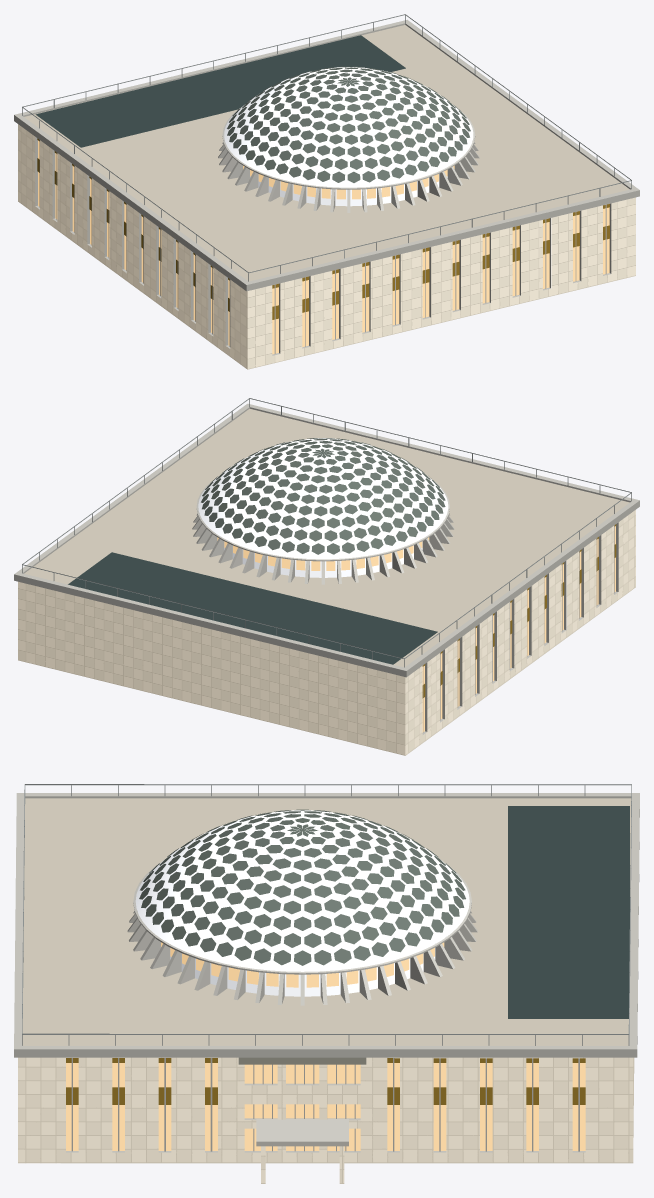
File: state_bank.glb
The picture shows the model from 3 angles, top to bottom: view 1: azimuth 30°, elevation 25°; view 2: azimuth 150°, elevation 25°; view 3: azimuth 270°, elevation 25°; orthographic projection. The views are drawn at different scales.
Visible parts, largest first — view 1: m_roof_deck, m_stone_panel, m_fascia, m_dome_white, m_dome_hex, m_roof_dark, m_window_glass, m_collar_rib, m_roof_rail, m_ochre_panel; view 2: m_stone_panel, m_roof_deck, m_roof_dark, m_dome_white, m_fascia, m_dome_hex, m_collar_rib, m_window_glass, m_roof_rail, m_ochre_panel; view 3: m_roof_deck, m_stone_panel, m_roof_dark, m_dome_white, m_dome_hex, m_fascia, m_window_glass, m_collar_rib, m_roof_rail, m_porch_slab, m_ochre_panel, m_frieze.
Boxes of the visible parts, bbox=[...] form: m_roof_deck: bbox=[24, 25, 629, 281]; m_stone_panel: bbox=[18, 124, 635, 369]; m_fascia: bbox=[14, 19, 639, 355]; m_dome_white: bbox=[224, 67, 473, 206]; m_dome_hex: bbox=[227, 66, 470, 182]; m_roof_dark: bbox=[35, 35, 405, 147]; m_window_glass: bbox=[38, 140, 609, 354]; m_collar_rib: bbox=[218, 107, 479, 212]; m_roof_rail: bbox=[22, 14, 631, 281]; m_ochre_panel: bbox=[37, 138, 609, 319]; m_stone_panel: bbox=[18, 510, 635, 755]; m_roof_deck: bbox=[24, 408, 629, 667]; m_roof_dark: bbox=[68, 552, 437, 664]; m_dome_white: bbox=[198, 438, 448, 577]; m_fascia: bbox=[14, 403, 639, 734]; m_dome_hex: bbox=[201, 438, 445, 554]; m_collar_rib: bbox=[192, 478, 454, 584]; m_window_glass: bbox=[217, 526, 615, 732]; m_roof_rail: bbox=[22, 398, 631, 667]; m_ochre_panel: bbox=[422, 524, 616, 698]; m_roof_deck: bbox=[22, 798, 631, 1045]; m_stone_panel: bbox=[18, 1057, 634, 1183]; m_roof_dark: bbox=[508, 806, 629, 1018]; m_dome_white: bbox=[135, 810, 469, 996]; m_dome_hex: bbox=[139, 809, 465, 965]; m_fascia: bbox=[14, 793, 639, 1152]; m_window_glass: bbox=[66, 942, 585, 1150]; m_collar_rib: bbox=[127, 866, 477, 1005]; m_roof_rail: bbox=[22, 784, 631, 1045]; m_porch_slab: bbox=[256, 1119, 348, 1146]; m_ochre_panel: bbox=[66, 1058, 585, 1104]; m_frieze: bbox=[238, 1057, 366, 1064].
Bounding box in the file's own units: 56.49 × 20.46 × 53.98.
Materials: 12 (1 with a texture image).
